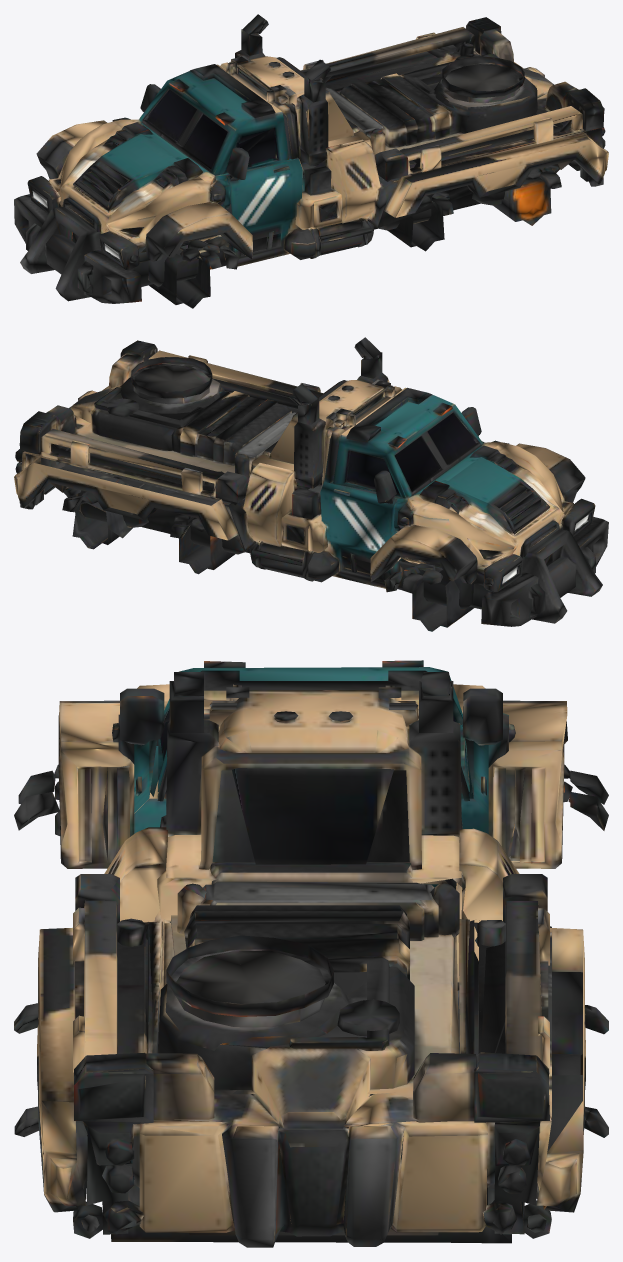
The model's file is Chassis.fbx.
The picture shows the model from 3 angles, top to bottom: view 1: azimuth 30°, elevation 25°; view 2: azimuth 150°, elevation 25°; view 3: azimuth 270°, elevation 25°; orthographic projection. The views are drawn at different scales.
Parts seen in each view (by area): view 1: Chassis; view 2: Chassis; view 3: Chassis.
Part boxes in pixels (left/top/right/bottom): Chassis: left=14, top=14, right=608, bottom=308; Chassis: left=14, top=337, right=608, bottom=631; Chassis: left=14, top=660, right=608, bottom=1247.
Size of the model in its own units: 95.46 by 34.57 by 48.29.
